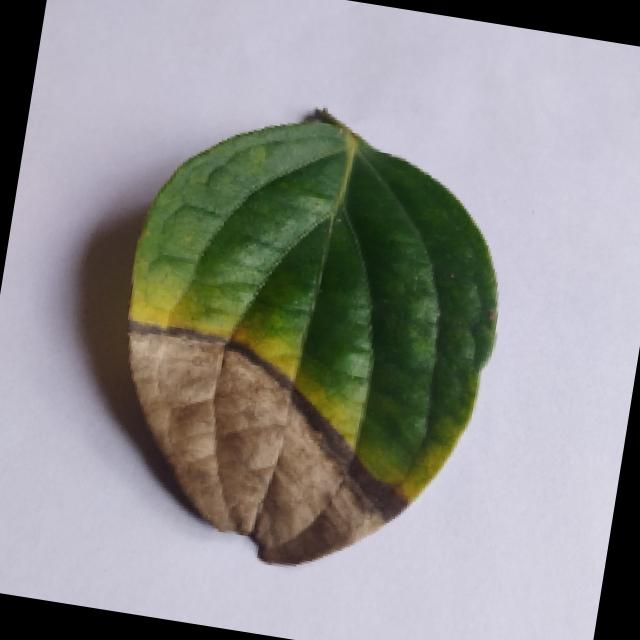footrot: (65, 74, 539, 592)
